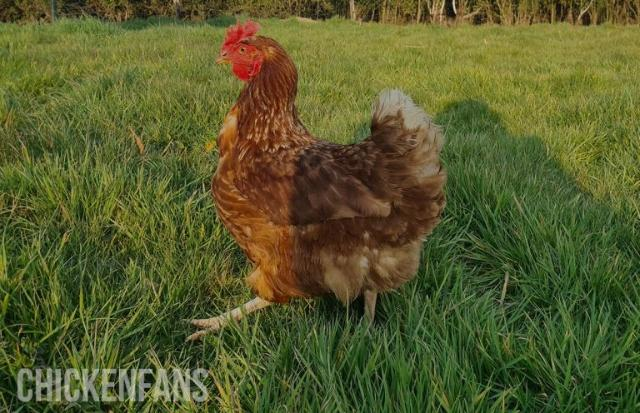Chicken: (185, 18, 448, 343)
